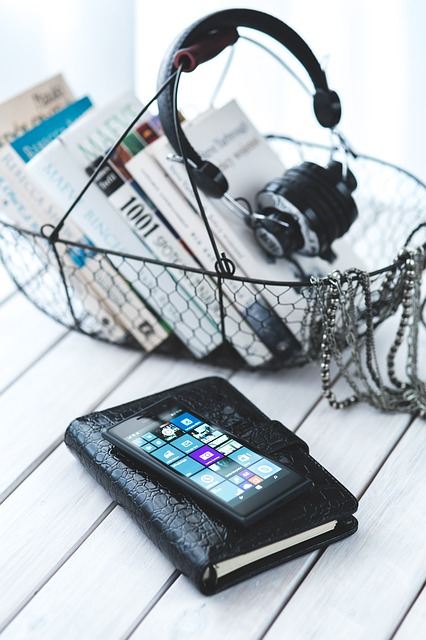headphones: (157, 9, 359, 258)
